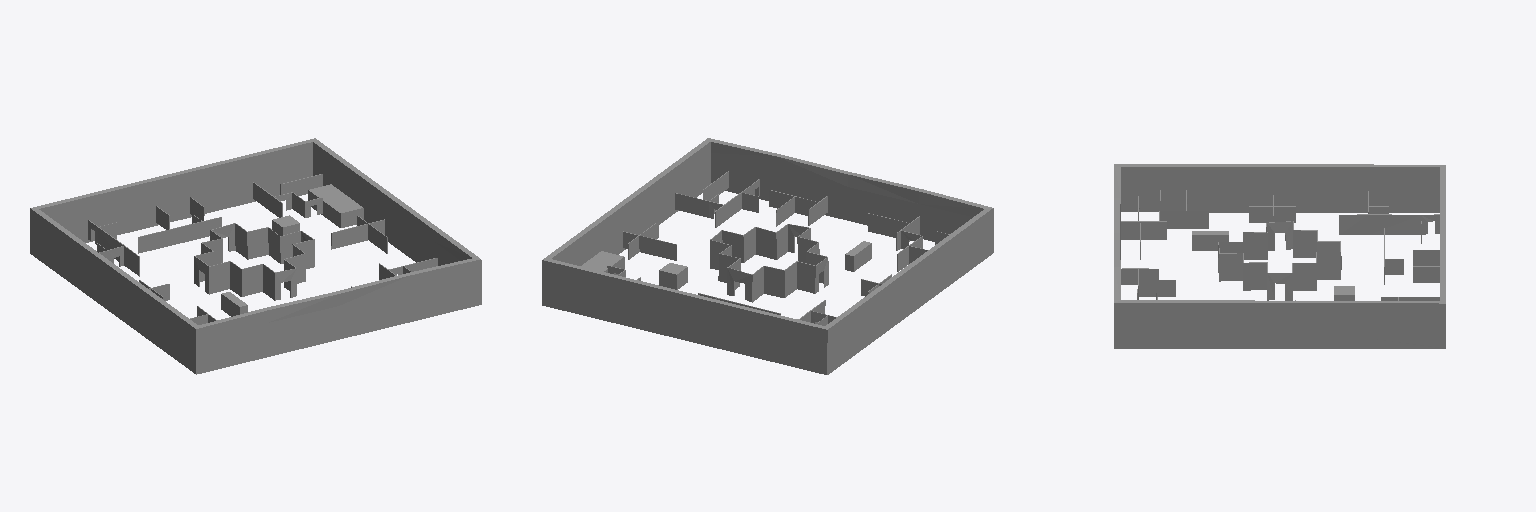
File: walls_joined_center.obj
3 renders of one model, left to right at view 1: azimuth 30°, elevation 25°; view 2: azimuth 150°, elevation 25°; view 3: azimuth 270°, elevation 25°, orthographic.
Parts seen in each view (by area): view 1: Cube.003_Cube.000; view 2: Cube.003_Cube.000; view 3: Cube.003_Cube.000.
Boxes of the visible parts, x1,y1,x2,y2 form: Cube.003_Cube.000: [30, 138, 481, 374]; Cube.003_Cube.000: [542, 138, 993, 374]; Cube.003_Cube.000: [1114, 164, 1445, 348].
Bounding box in the file's own units: 409 × 65.28 × 413.